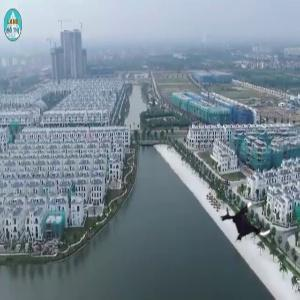drone: (218, 193, 276, 251)
